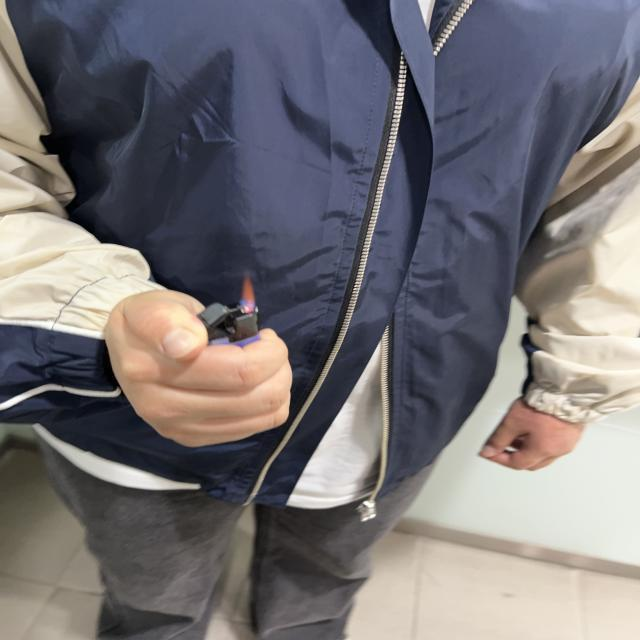fire: (241, 274, 256, 310)
